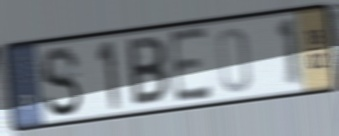0: (215, 25, 253, 95)
1: (276, 15, 304, 91), (95, 37, 123, 113)
B: (125, 34, 171, 109)
E: (166, 23, 215, 108)
S: (38, 44, 85, 120)
